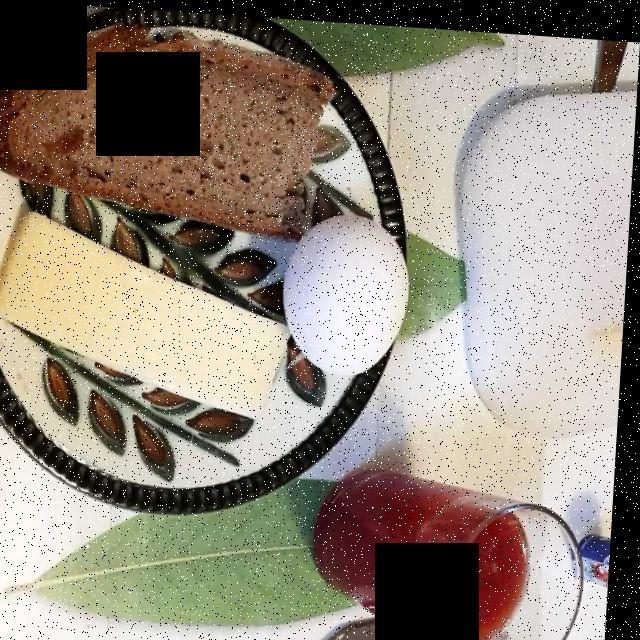bread: (3, 20, 327, 221)
cheese: (0, 218, 265, 408)
egg: (287, 212, 412, 372)
juice: (309, 468, 523, 640)
